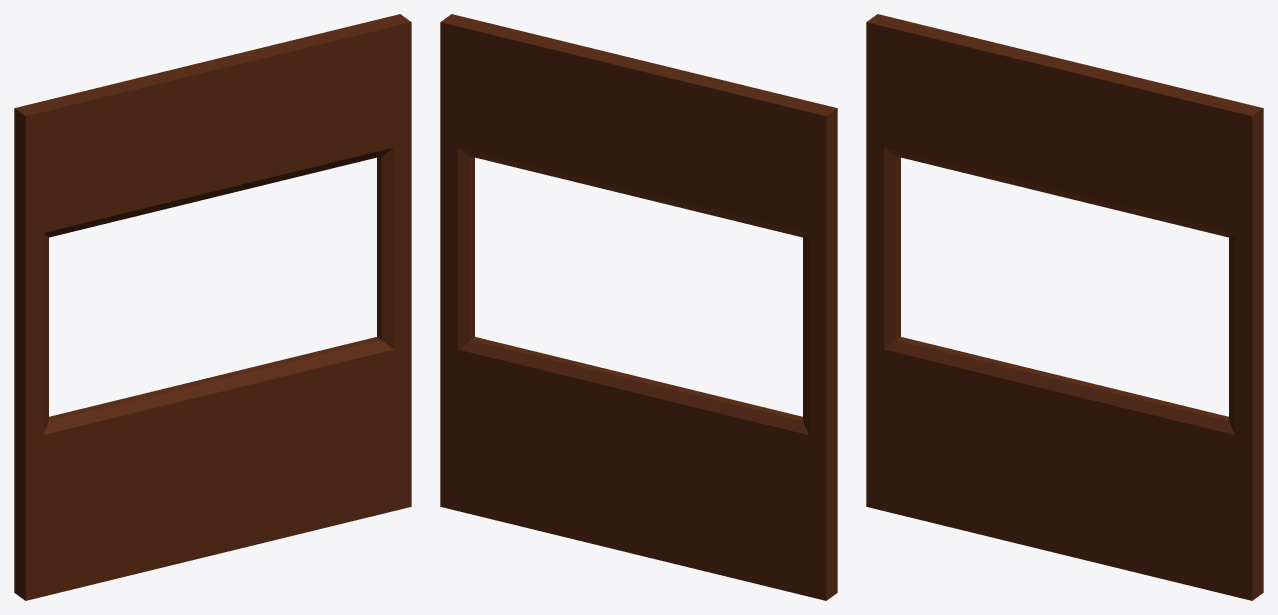
The model's file is cp_internal_wall_200_window.fbx.
The picture shows the model from 3 angles, left to right: view 1: azimuth 30°, elevation 25°; view 2: azimuth 150°, elevation 25°; view 3: azimuth 330°, elevation 25°; orthographic projection.
Parts seen in each view (by area): view 1: internal_wall_200_window; view 2: internal_wall_200_window; view 3: internal_wall_200_window.
Part boxes in pixels (<box>): internal_wall_200_window: <box>14,14,411,600</box>; internal_wall_200_window: <box>440,14,837,600</box>; internal_wall_200_window: <box>866,14,1263,600</box>.
Size of the model in its own units: 200 by 240 by 10.
1 material, 1 textured.
